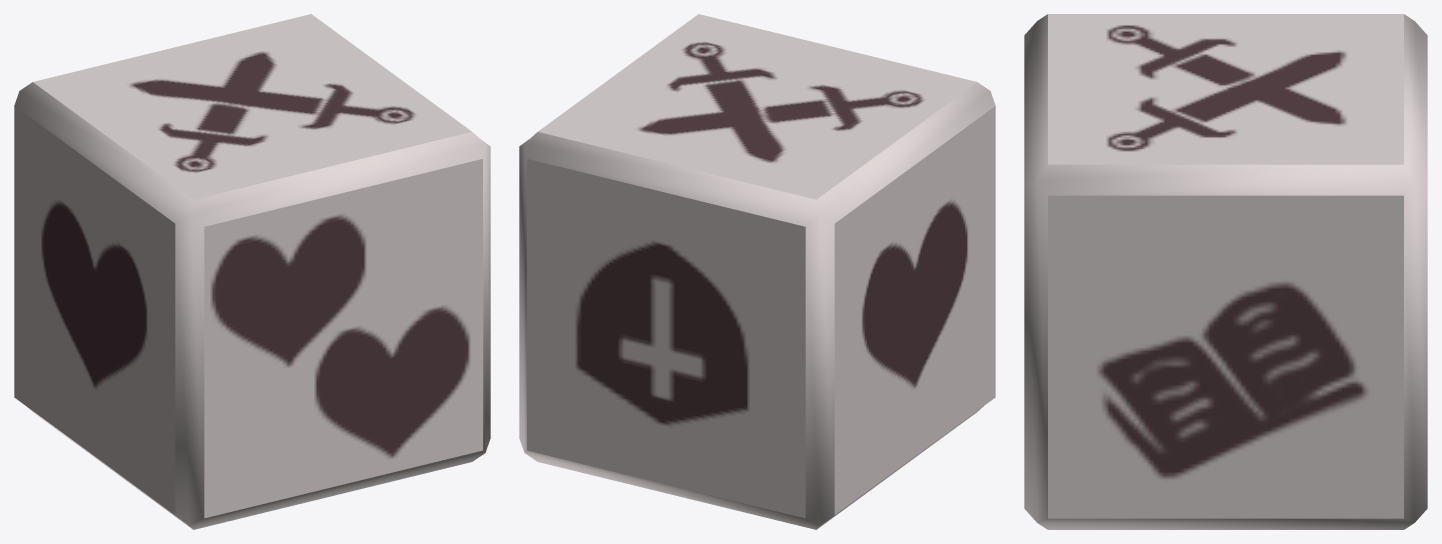
The model's file is Dice.fbx.
The picture shows the model from 3 angles, left to right: view 1: azimuth 30°, elevation 25°; view 2: azimuth 150°, elevation 25°; view 3: azimuth 270°, elevation 25°; orthographic projection. The views are drawn at different scales.
Parts seen in each view (by area): view 1: Face_Gauche, Face_Back, Face_Dessus, Bordure_De; view 2: Face_Droit, Face_Back, Face_Dessus, Bordure_De; view 3: Face_Front, Face_Dessus, Bordure_De.
Part boxes in pixels (<box>): Face_Gauche: <box>204,159,482,518</box>; Face_Back: <box>14,106,175,514</box>; Face_Dessus: <box>33,14,471,199</box>; Bordure_De: <box>14,82,490,529</box>; Face_Droit: <box>527,159,805,518</box>; Face_Back: <box>834,106,995,514</box>; Face_Dessus: <box>538,14,976,199</box>; Bordure_De: <box>519,82,995,529</box>; Face_Front: <box>1048,195,1403,518</box>; Face_Dessus: <box>1048,14,1403,164</box>; Bordure_De: <box>1024,14,1427,529</box>.
Size of the model in its own units: 3.42 by 3.42 by 3.42.
